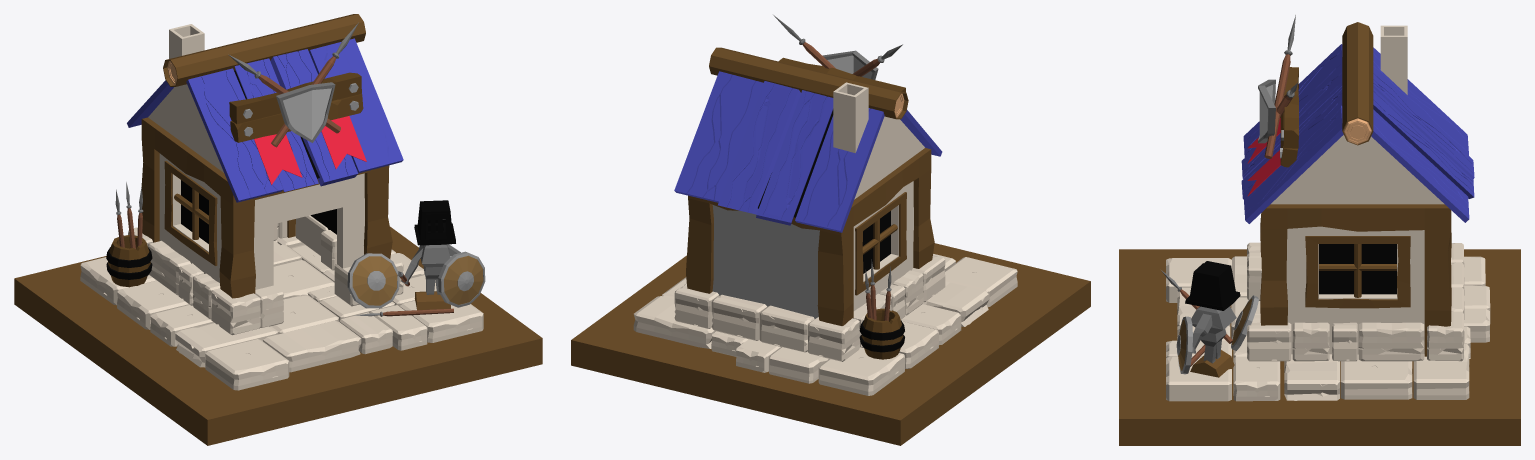
File: TroopSpawner.fbx
The picture shows the model from 3 angles, left to right: view 1: azimuth 30°, elevation 25°; view 2: azimuth 150°, elevation 25°; view 3: azimuth 270°, elevation 25°; orthographic projection. The views are drawn at different scales.
Parts seen in each view (by area): view 1: Cube.005; view 2: Cube.005; view 3: Cube.005.
Part boxes in pixels (x1,y1,x2,y2): Cube.005: (14,14,542,445); Cube.005: (571,15,1090,445); Cube.005: (1119,15,1520,445).
Size of the model in its own units: 549 by 475 by 549.
